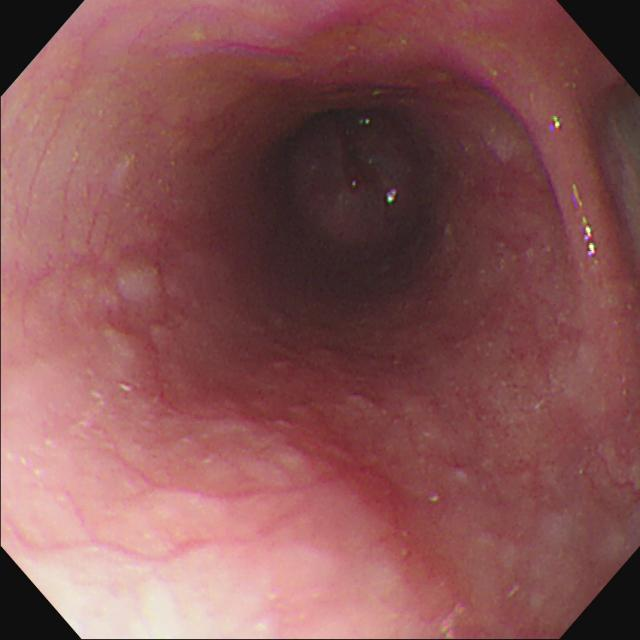I: (291, 99, 433, 246)
U: (571, 186, 600, 264), (548, 108, 568, 140)
